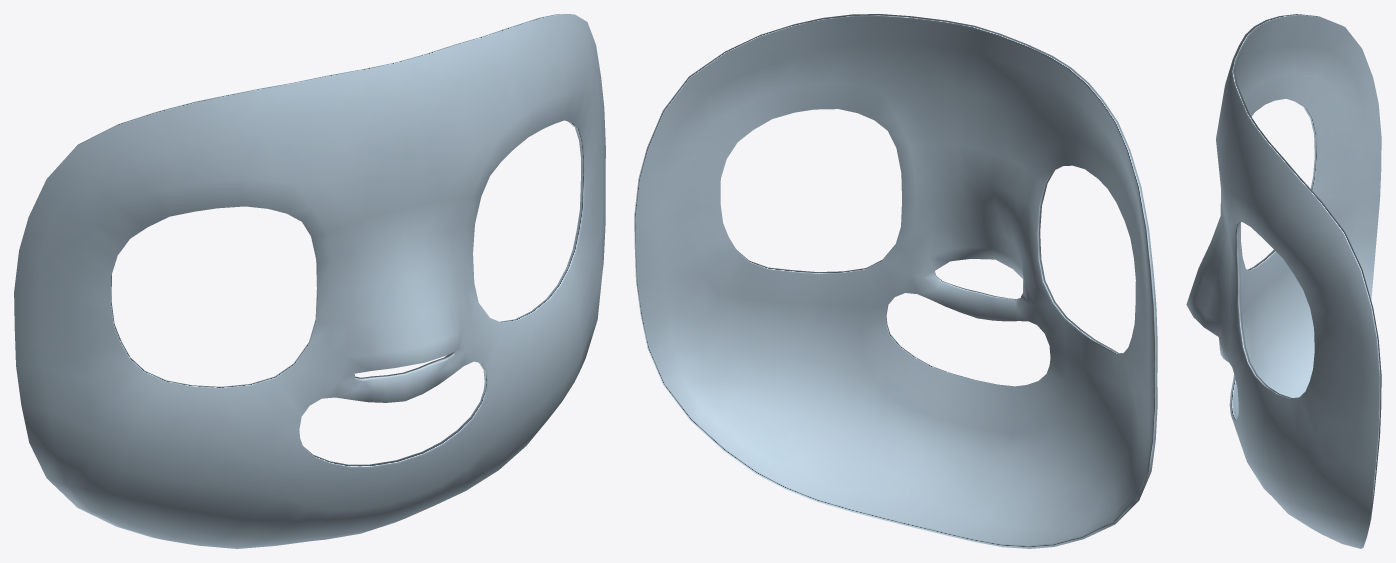
File: AccessoryGlassmouthPackWhite.glb
The picture shows the model from 3 angles, left to right: view 1: azimuth 30°, elevation 25°; view 2: azimuth 150°, elevation 25°; view 3: azimuth 270°, elevation 25°; orthographic projection. The views are drawn at different scales.
Parts seen in each view (by area): view 1: Accessory__mAccessory; view 2: Accessory__mAccessory; view 3: Accessory__mAccessory.
Boxes of the visible parts, bbox=[...] form: Accessory__mAccessory: bbox=[14, 14, 605, 548]; Accessory__mAccessory: bbox=[634, 14, 1157, 548]; Accessory__mAccessory: bbox=[1186, 14, 1381, 548].
Size of the model in its own units: 5.72 by 4.79 by 1.96.
Materials: 1 (1 with a texture image).
